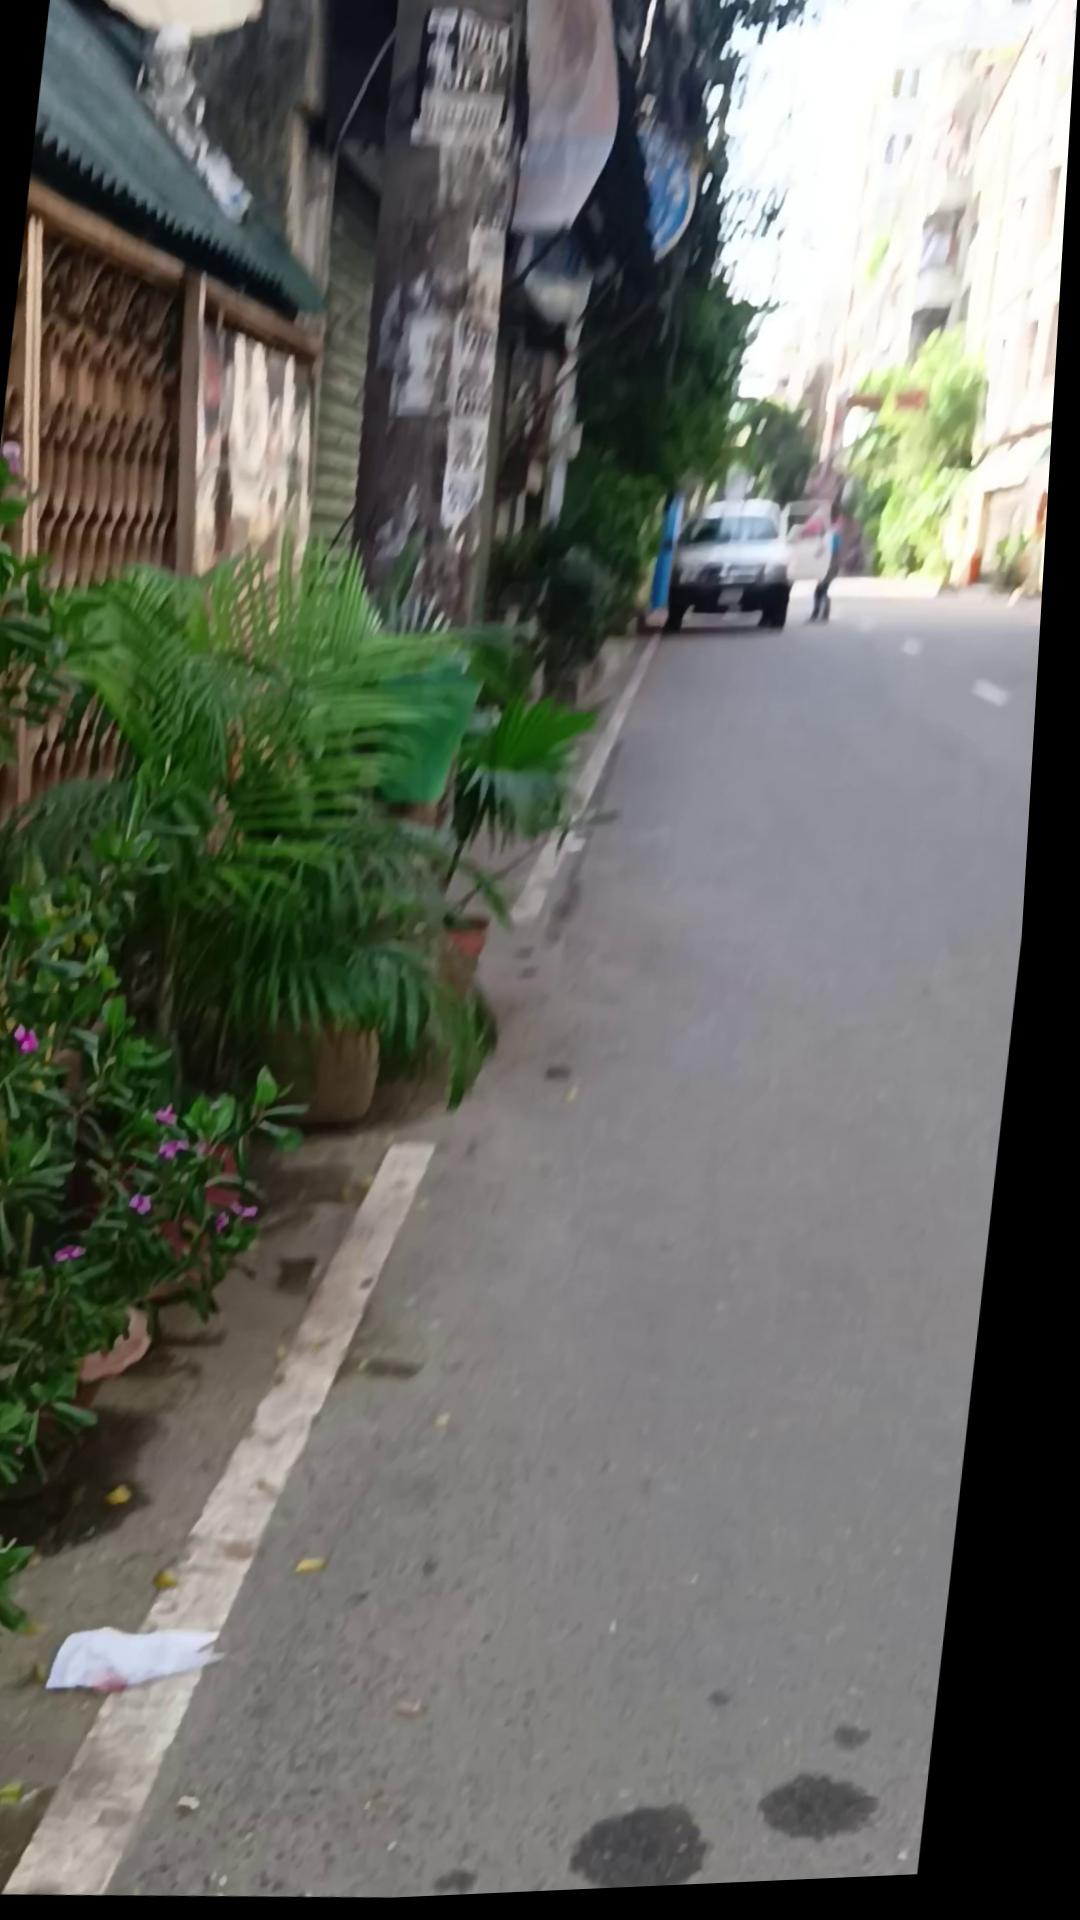Bollard: (667, 498, 808, 645)
Curb: (812, 509, 856, 632)
Fallen-tree: (0, 480, 477, 1758), (429, 684, 613, 978)
